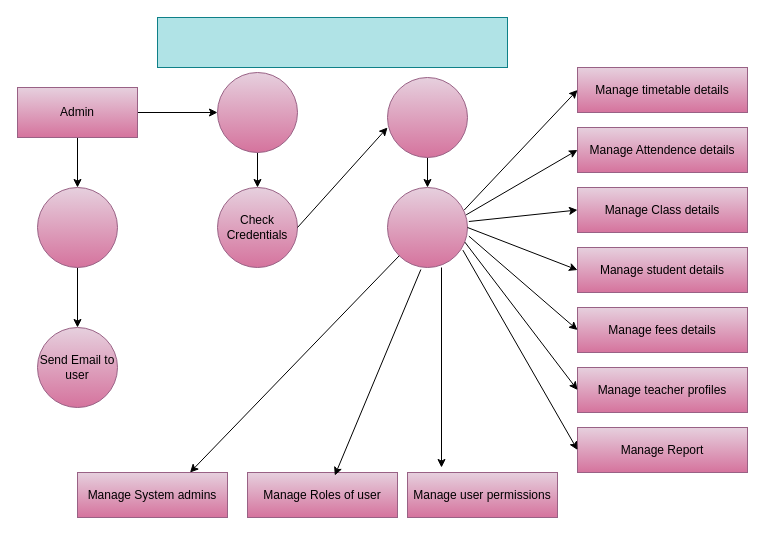
The diagram is 765 pixels wide and 535 high, and some of its shapes have lost their labels. The centre of each missing label's shape, as x and y in pixels:
Check roles of access: point (427, 117)
Forget Password: point (77, 227)
Login to System: point (257, 112)
Manage Modules: point (427, 227)
Student Information system: point (332, 42)
